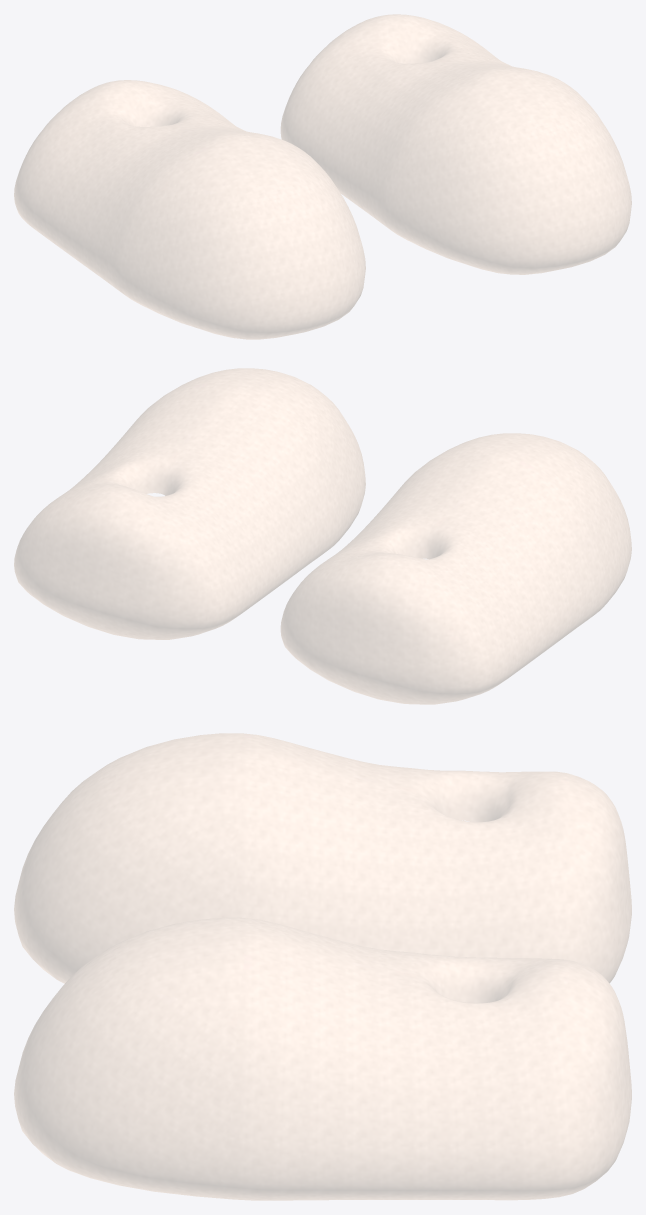
The model's file is shoes.glb.
3 views of the same model, one above another, from view 1: azimuth 30°, elevation 25°; view 2: azimuth 150°, elevation 25°; view 3: azimuth 270°, elevation 25° (orthographic). The views are drawn at different scales.
Parts seen in each view (by area): view 1: R_shoes, L_shoes; view 2: R_shoes, L_shoes; view 3: L_shoes, R_shoes.
Part boxes in pixels (x1,y1,x2,y2): R_shoes: (14,80,365,339); L_shoes: (280,14,631,274); R_shoes: (280,433,631,704); L_shoes: (14,368,365,639); L_shoes: (14,917,631,1200); R_shoes: (14,733,631,983).
Size of the model in its own units: 0.00515 by 0.0017 by 0.004.
Materials: 1 (1 with a texture image).
